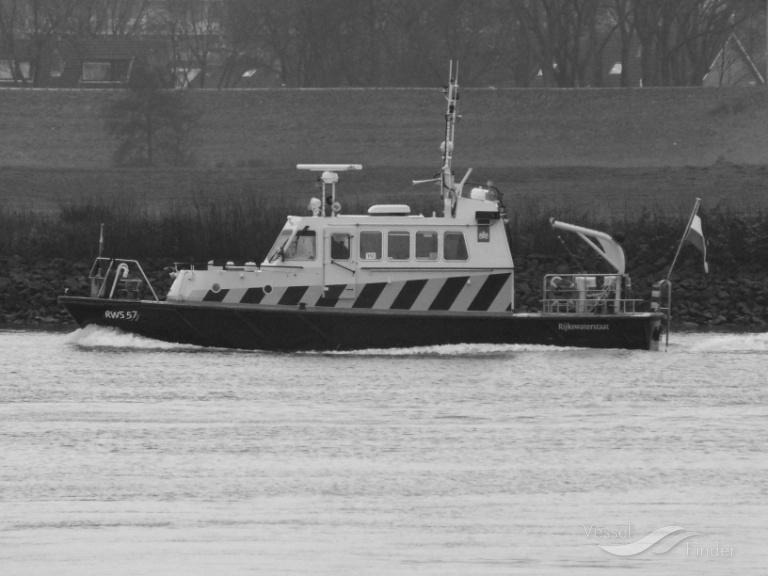OCR: (96, 302, 141, 325)
